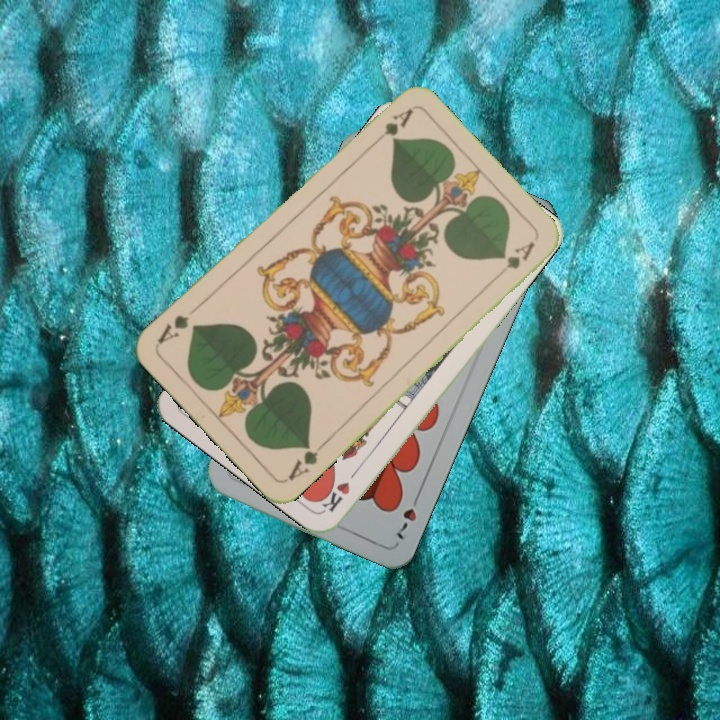GA: (367, 104, 416, 149), (283, 437, 329, 484)
H7: (391, 488, 423, 543)
HK: (319, 462, 363, 515)
